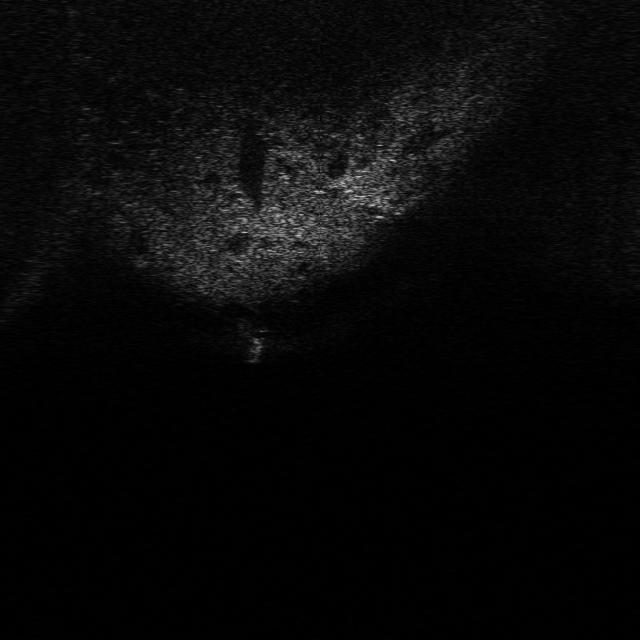cylinder: (241, 333, 267, 367)
